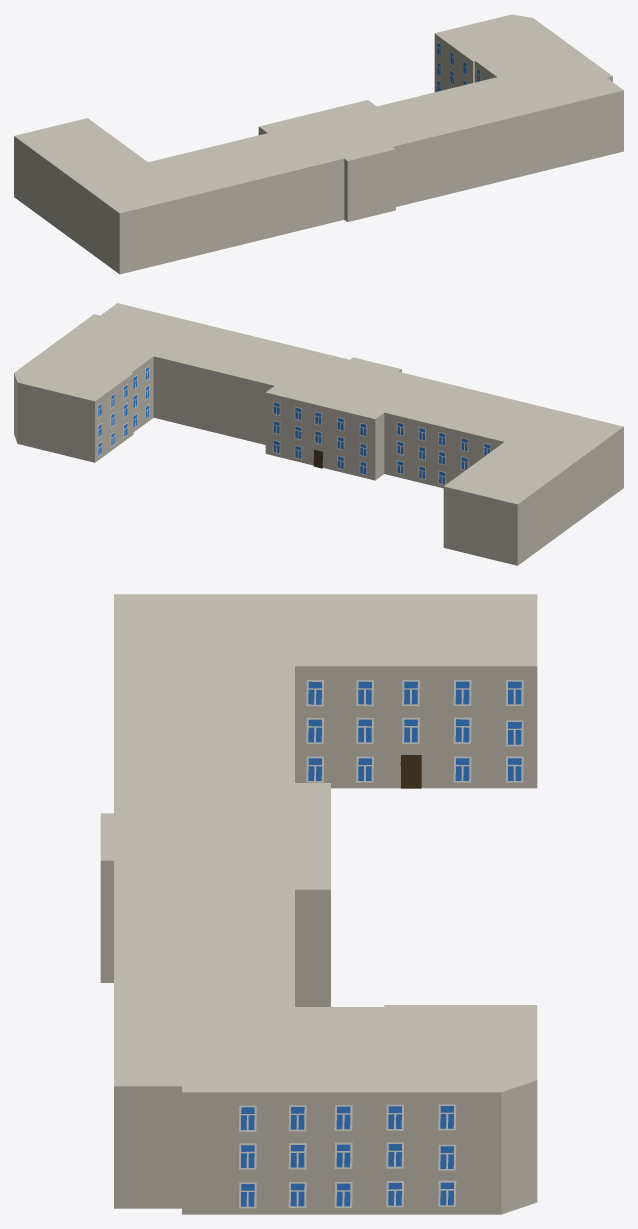
3 renders of one model, top to bottom at view 1: azimuth 30°, elevation 25°; view 2: azimuth 150°, elevation 25°; view 3: azimuth 270°, elevation 25°, orthographic. The views are drawn at different scales.
Parts seen in each view (by area): view 1: Плоскость.709; view 2: Плоскость.709; view 3: Плоскость.709.
Boxes of the visible parts, box(x1,y1,x2,y2) form: Плоскость.709: box(14, 14, 623, 274); Плоскость.709: box(14, 303, 623, 565); Плоскость.709: box(100, 594, 537, 1214).
Size of the model in its own units: 673 by 76.76 by 249.
